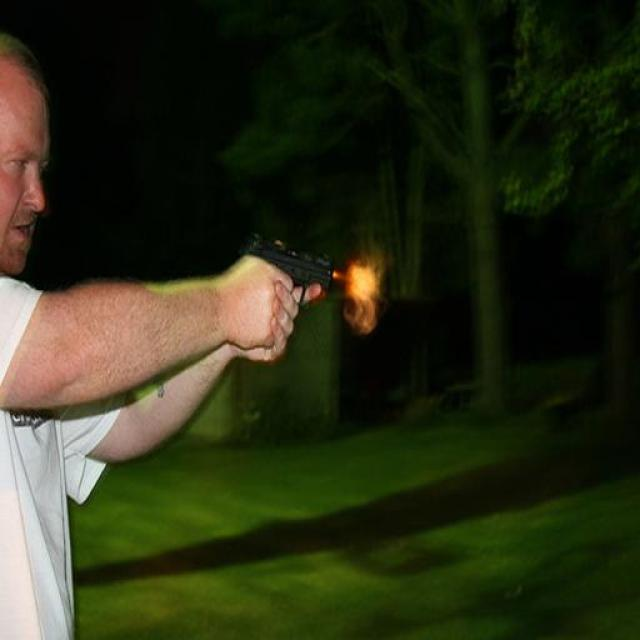pistol: (239, 230, 338, 309)
